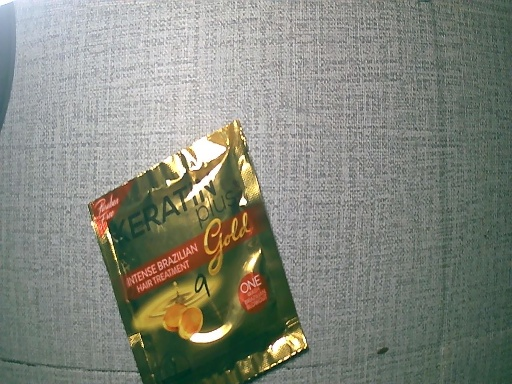plastic: (87, 125, 307, 384)
